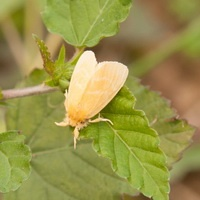insect: (55, 51, 127, 148)
